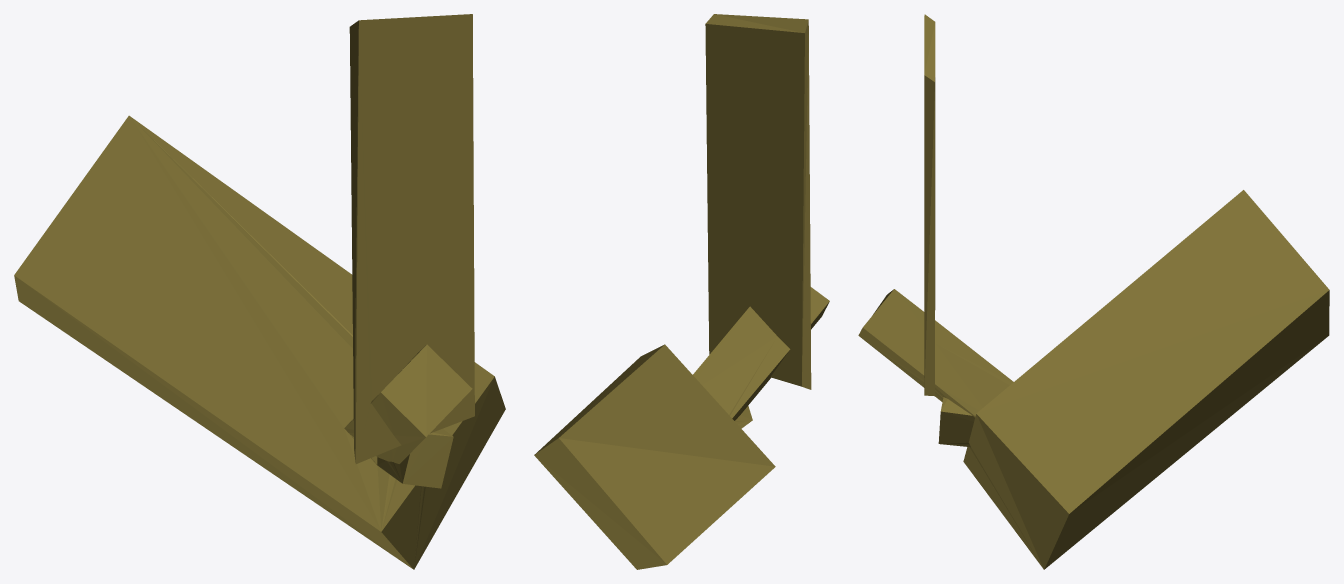
The picture shows the model from 3 angles, left to right: view 1: azimuth 30°, elevation 25°; view 2: azimuth 150°, elevation 25°; view 3: azimuth 270°, elevation 25°; orthographic projection. The views are drawn at different scales.
Parts seen in each view (by area): view 1: 371_Cube.1513; view 2: 371_Cube.1513; view 3: 371_Cube.1513.
Boxes of the visible parts, x1=… form: 371_Cube.1513: x1=14, y1=14, x2=505, y2=569; 371_Cube.1513: x1=534, y1=14, x2=829, y2=569; 371_Cube.1513: x1=858, y1=14, x2=1329, y2=569.
Bounding box in the file's own units: 11.59 × 18.05 × 15.25.
